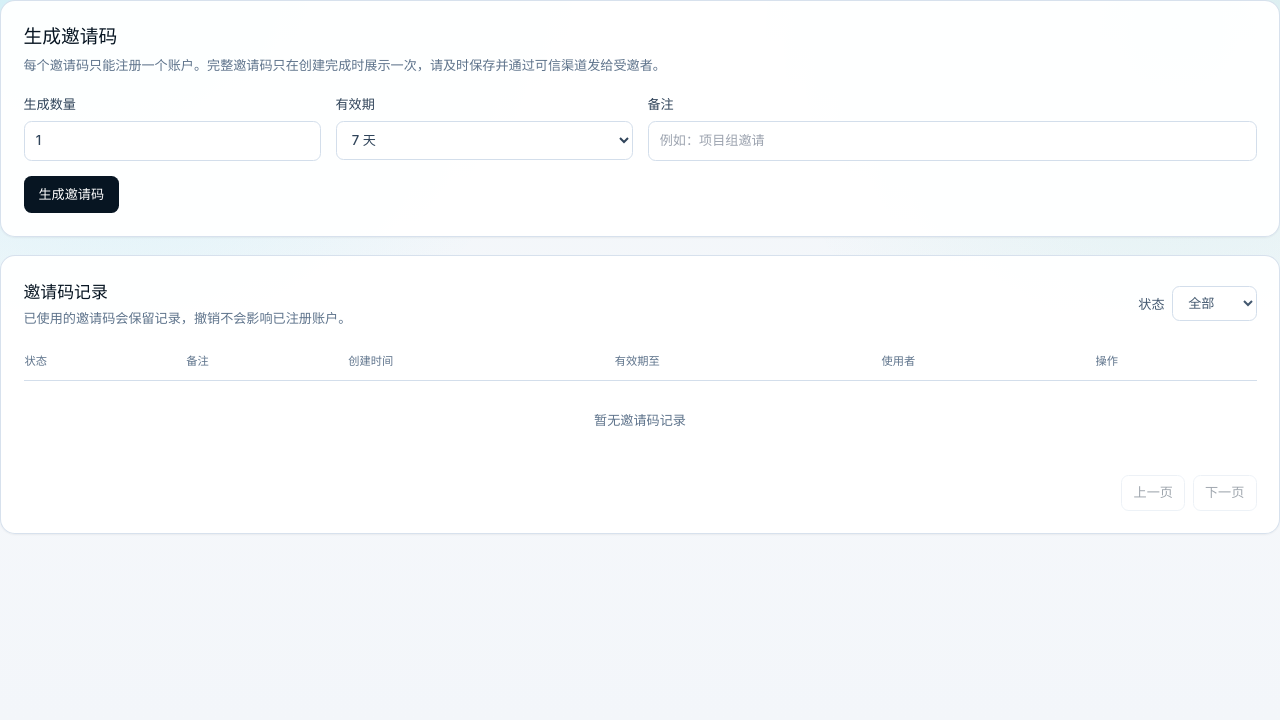
Scenario: invitation administration behavior › offers a manual copy fallback when clipboard access fails
What coordinates should you click on to do the following:
click the button "生成邀请码"
I would click on:
 (71, 194)
Its box is x1=24 y1=176 x2=119 y2=213.
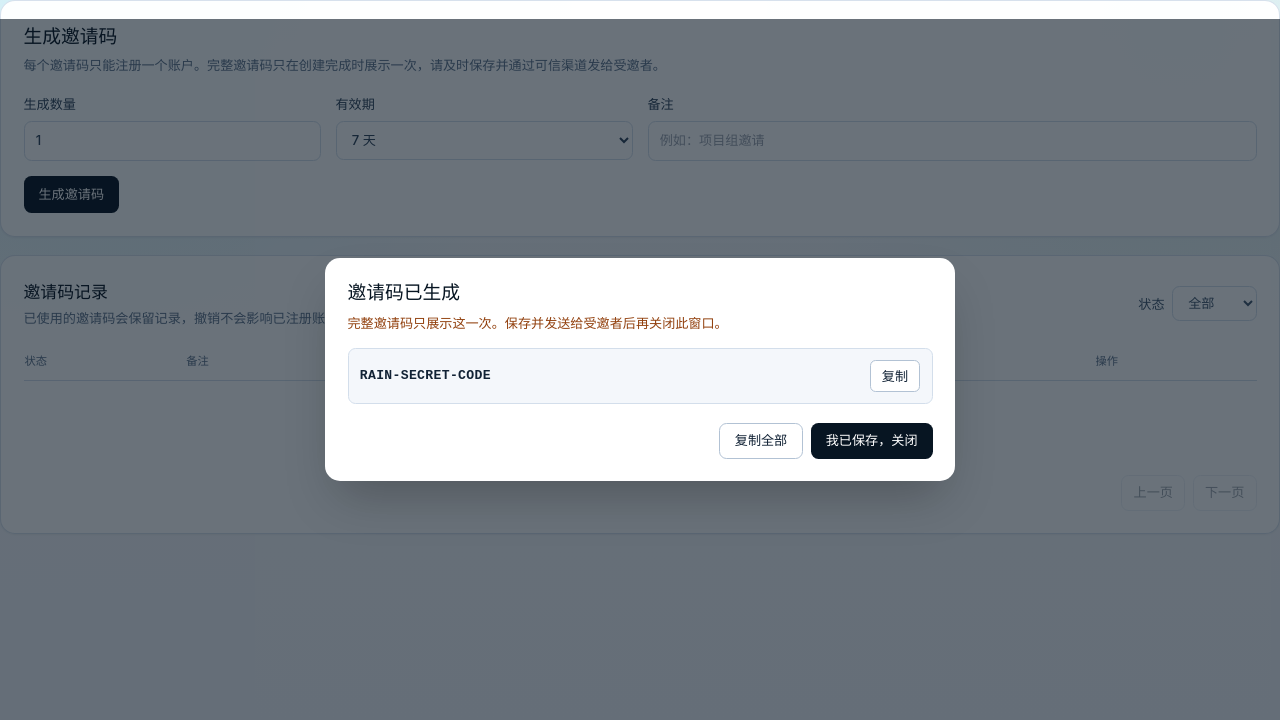
expect the dialog is shown: met, box x1=325 y1=258 x2=955 y2=481
What coordinates should you click on to do the following:
click the button "复制"
I would click on:
 (895, 376)
Its box is x1=870 y1=360 x2=920 y2=392.
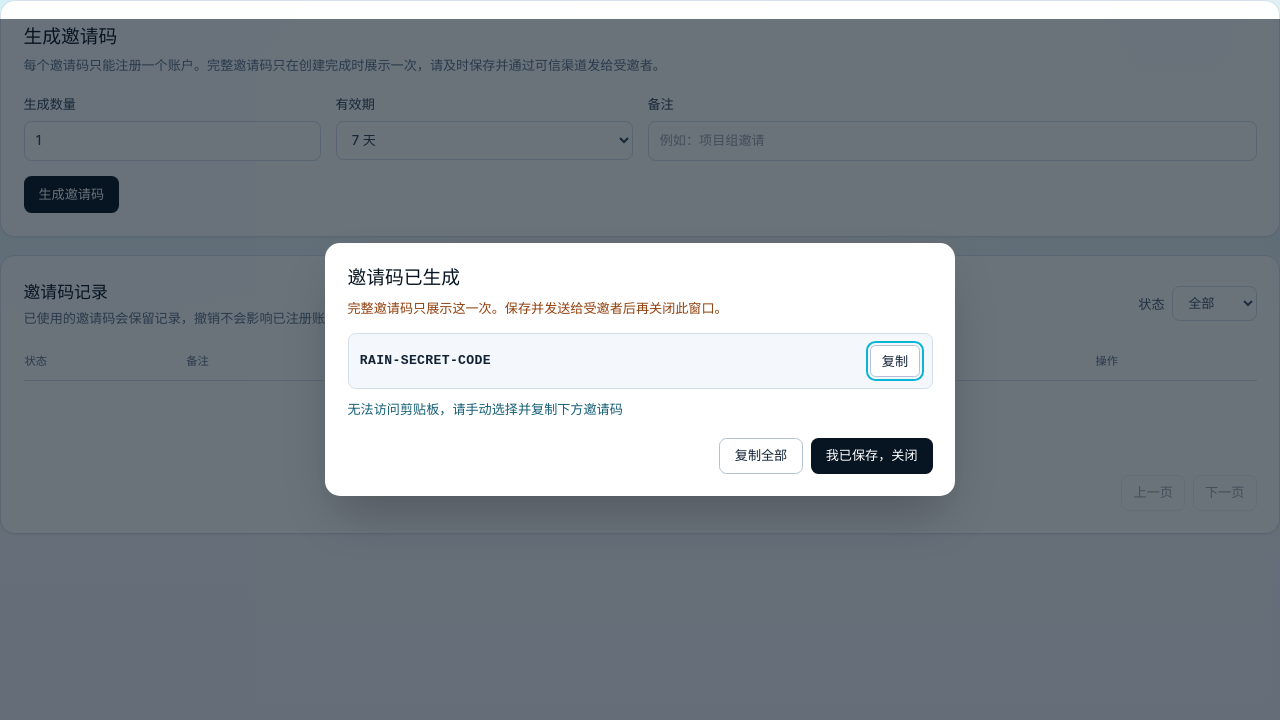
expect the text "无法访问剪贴板，请手动选择并复制下方邀请码" is shown: met, box x1=348 y1=401 x2=623 y2=417
